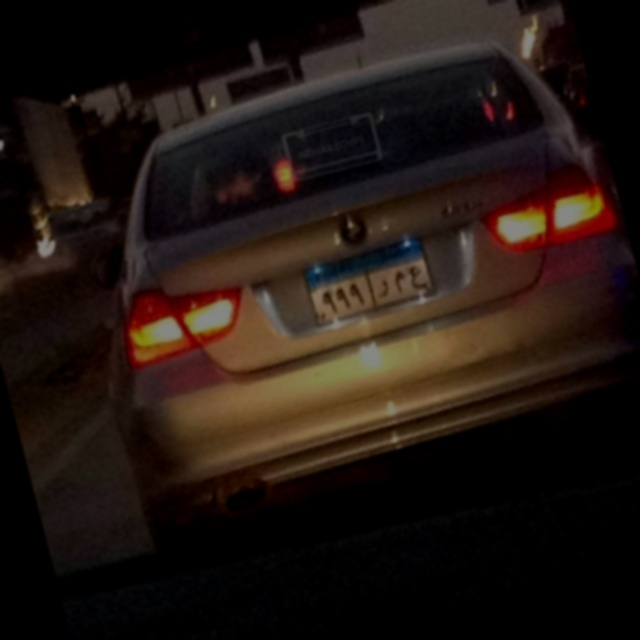License Plate: (296, 232, 440, 331)
